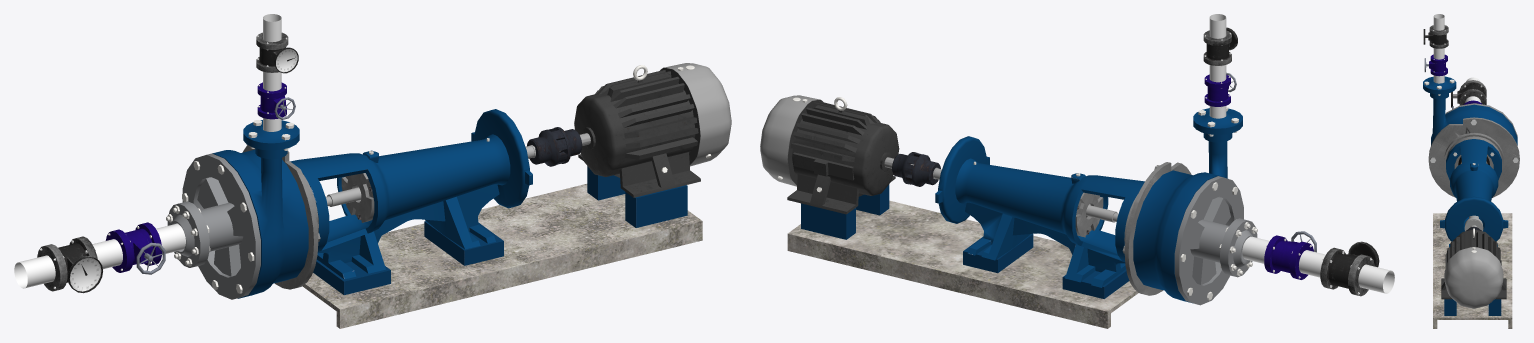
The model's file is Pump.fbx.
3 renders of one model, left to right at view 1: azimuth 30°, elevation 25°; view 2: azimuth 150°, elevation 25°; view 3: azimuth 270°, elevation 25°, orthographic. The views are drawn at different scales.
Visible parts, largest first — view 1: FloorMount.001, ShaftHousing.001, ElectricMotor.001, FrontSuctionCover.001, ImpellerHousing.001, Pressure_Gauge_side_lp.002, IntakePiping_side_lp.002, RearSuctionCover.001, IsoValve_side_lp.004, Pressure_Gauge_side_lp.003, IntakePiping_side_lp.003, Bearing.001 (+4 smaller); view 2: FloorMount.001, ShaftHousing.001, ElectricMotor.001, FrontSuctionCover.001, ImpellerHousing.001, Pressure_Gauge_side_lp.002, IntakePiping_side_lp.002, RearSuctionCover.001, IsoValve_side_lp.004, Pressure_Gauge_side_lp.003, IntakePiping_side_lp.003, Bearing.001 (+4 smaller); view 3: ShaftHousing.001, ElectricMotor.001, FloorMount.001, RearSuctionCover.001, ImpellerHousing.001, Pressure_Gauge_side_lp.002, Pressure_Gauge_side_lp.003, IntakePiping_side_lp.003, IsoValve_side_lp.006, Pump_Shaft.001, FrontSuctionCover.001, IntakePiping_side_lp.002.
Part boxes in pixels (x1,y1,x2,y2): FloorMount.001: (302,166,702,328); ShaftHousing.001: (290,109,532,279); ElectricMotor.001: (559,63,731,197); FrontSuctionCover.001: (166,153,260,299); ImpellerHousing.001: (212,120,308,298); Pressure_Gauge_side_lp.002: (37,236,102,293); IntakePiping_side_lp.002: (14,223,185,288); RearSuctionCover.001: (242,145,320,289); IsoValve_side_lp.004: (105,222,162,272); Pressure_Gauge_side_lp.003: (256,32,298,73); IntakePiping_side_lp.003: (263,14,281,131); Bearing.001: (341,173,374,222); FloorMount.001: (787,184,1138,328); ShaftHousing.001: (935,136,1144,287); ElectricMotor.001: (760,95,913,214); FrontSuctionCover.001: (1174,176,1257,305); ImpellerHousing.001: (1133,107,1242,303); Pressure_Gauge_side_lp.002: (1320,241,1379,296); IntakePiping_side_lp.002: (1242,236,1394,293); RearSuctionCover.001: (1122,162,1191,295); IsoValve_side_lp.004: (1264,235,1313,279); Pressure_Gauge_side_lp.003: (1203,27,1237,66); IntakePiping_side_lp.003: (1209,14,1226,118); Bearing.001: (1075,192,1103,237); ShaftHousing.001: (1440,139,1508,246); ElectricMotor.001: (1441,228,1506,308); FloorMount.001: (1433,213,1512,328); RearSuctionCover.001: (1428,117,1519,197); ImpellerHousing.001: (1423,76,1517,145); Pressure_Gauge_side_lp.002: (1451,80,1486,107); Pressure_Gauge_side_lp.003: (1423,25,1448,48); IntakePiping_side_lp.003: (1433,14,1444,83); IsoValve_side_lp.006: (1429,54,1447,76); Pump_Shaft.001: (1464,215,1483,231); FrontSuctionCover.001: (1445,103,1517,136); IntakePiping_side_lp.002: (1465,77,1481,102).
Size of the model in its own units: 1013 by 449 by 207.
